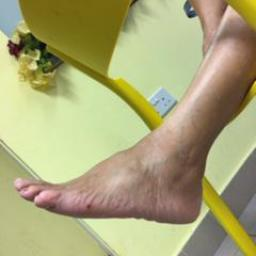Lateral View -Left Foot-: (6, 120, 228, 239)
